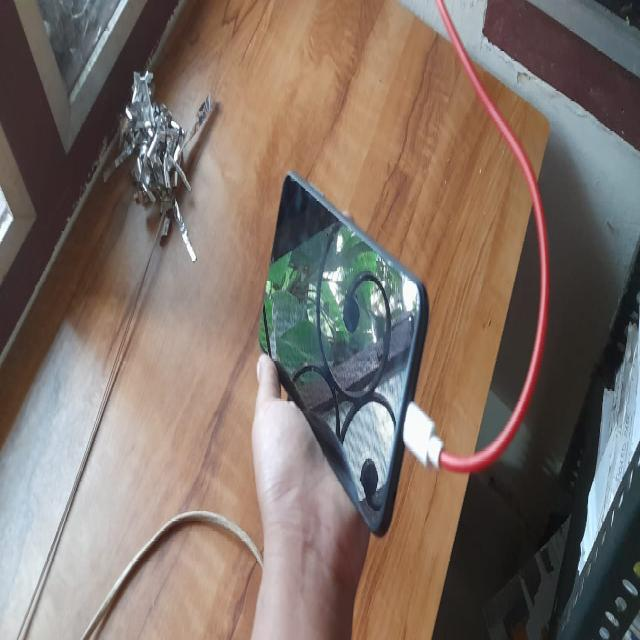Mobile - Recyclable: (247, 153, 438, 561)
